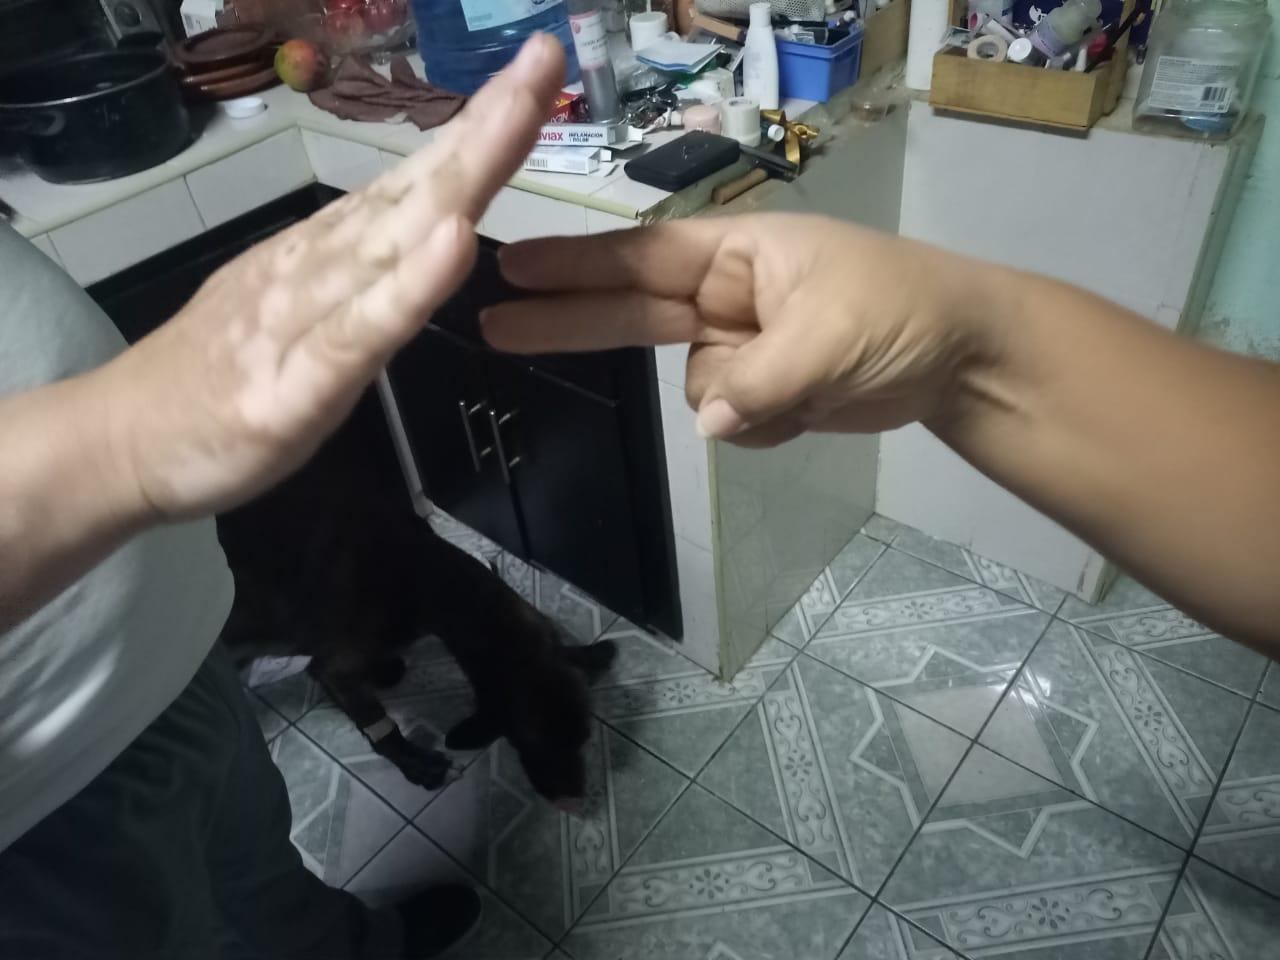Paper: (35, 28, 604, 576)
